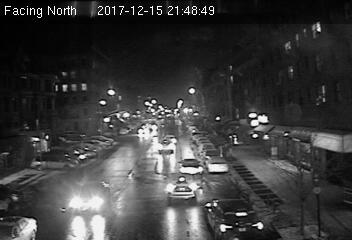car: (204, 199, 265, 240), (74, 180, 112, 214), (165, 176, 199, 204), (1, 215, 35, 240), (178, 159, 205, 177), (205, 156, 229, 173), (156, 138, 176, 154)
